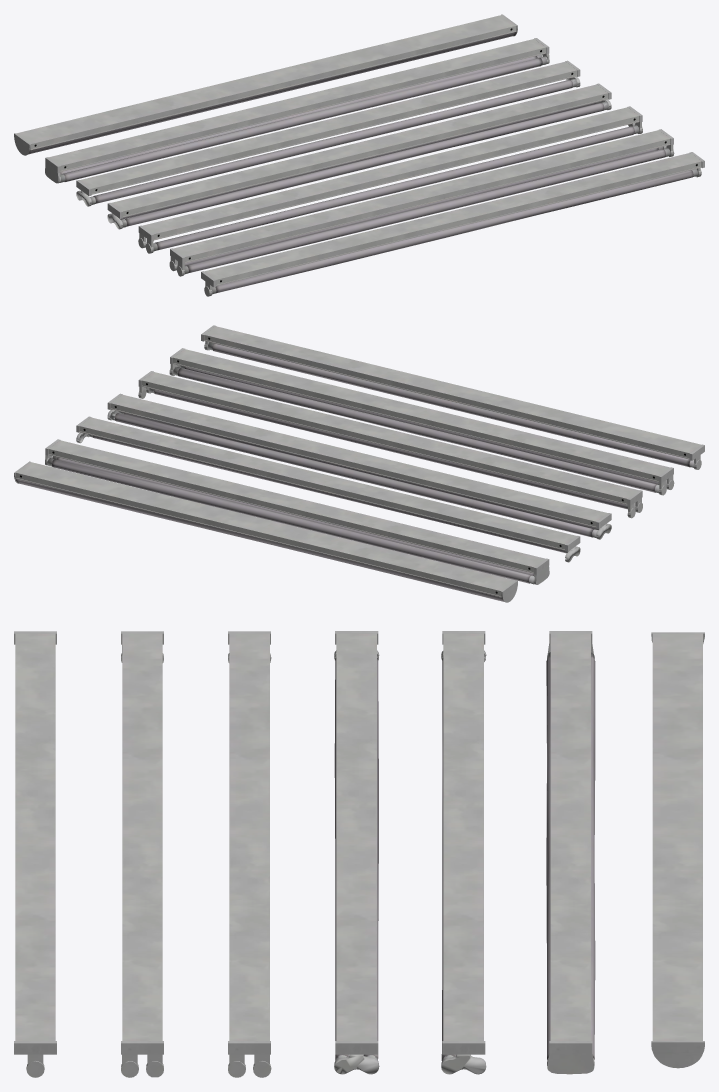
Rendered from mounted_fluorescent_lights.glb.
3 renders of one model, top to bottom at view 1: azimuth 30°, elevation 25°; view 2: azimuth 150°, elevation 25°; view 3: azimuth 270°, elevation 25°, orthographic. The views are drawn at different scales.
Parts seen in each view (by area): view 1: mounted_fluorescent_lights_b, mounted_fluorescent_lights_f, mounted_fluorescent_lights_d, mounted_fluorescent_lights_c, mounted_fluorescent_lights_e, mounted_fluorescent_lights_a, mounted_fluorescent_lights_g; view 2: mounted_fluorescent_lights_f, mounted_fluorescent_lights_b, mounted_fluorescent_lights_d, mounted_fluorescent_lights_a, mounted_fluorescent_lights_g, mounted_fluorescent_lights_c, mounted_fluorescent_lights_e; view 3: mounted_fluorescent_lights_g, mounted_fluorescent_lights_f, mounted_fluorescent_lights_d, mounted_fluorescent_lights_e, mounted_fluorescent_lights_c, mounted_fluorescent_lights_b, mounted_fluorescent_lights_a.
Part boxes in pixels (left/top/right/bottom): mounted_fluorescent_lights_b: left=169, top=129, right=674, bottom=276; mounted_fluorescent_lights_f: left=45, top=38, right=549, bottom=183; mounted_fluorescent_lights_d: left=107, top=83, right=611, bottom=229; mounted_fluorescent_lights_c: left=138, top=106, right=642, bottom=253; mounted_fluorescent_lights_e: left=76, top=60, right=580, bottom=206; mounted_fluorescent_lights_a: left=201, top=152, right=704, bottom=296; mounted_fluorescent_lights_g: left=14, top=14, right=517, bottom=155; mounted_fluorescent_lights_f: left=45, top=439, right=549, bottom=584; mounted_fluorescent_lights_b: left=169, top=348, right=674, bottom=495; mounted_fluorescent_lights_d: left=107, top=393, right=611, bottom=539; mounted_fluorescent_lights_a: left=201, top=325, right=704, bottom=469; mounted_fluorescent_lights_g: left=14, top=461, right=517, bottom=602; mounted_fluorescent_lights_c: left=138, top=371, right=642, bottom=518; mounted_fluorescent_lights_e: left=76, top=416, right=580, bottom=562; mounted_fluorescent_lights_g: left=651, top=632, right=704, bottom=1068; mounted_fluorescent_lights_f: left=546, top=631, right=595, bottom=1074; mounted_fluorescent_lights_d: left=334, top=631, right=379, bottom=1074; mounted_fluorescent_lights_e: left=441, top=631, right=486, bottom=1074; mounted_fluorescent_lights_c: left=228, top=631, right=271, bottom=1077; mounted_fluorescent_lights_b: left=121, top=631, right=163, bottom=1077; mounted_fluorescent_lights_a: left=14, top=631, right=56, bottom=1077.
Bounding box in the file's own units: 0.9122 × 0.0353 × 0.6455.
Materials: 2 (2 with a texture image).
